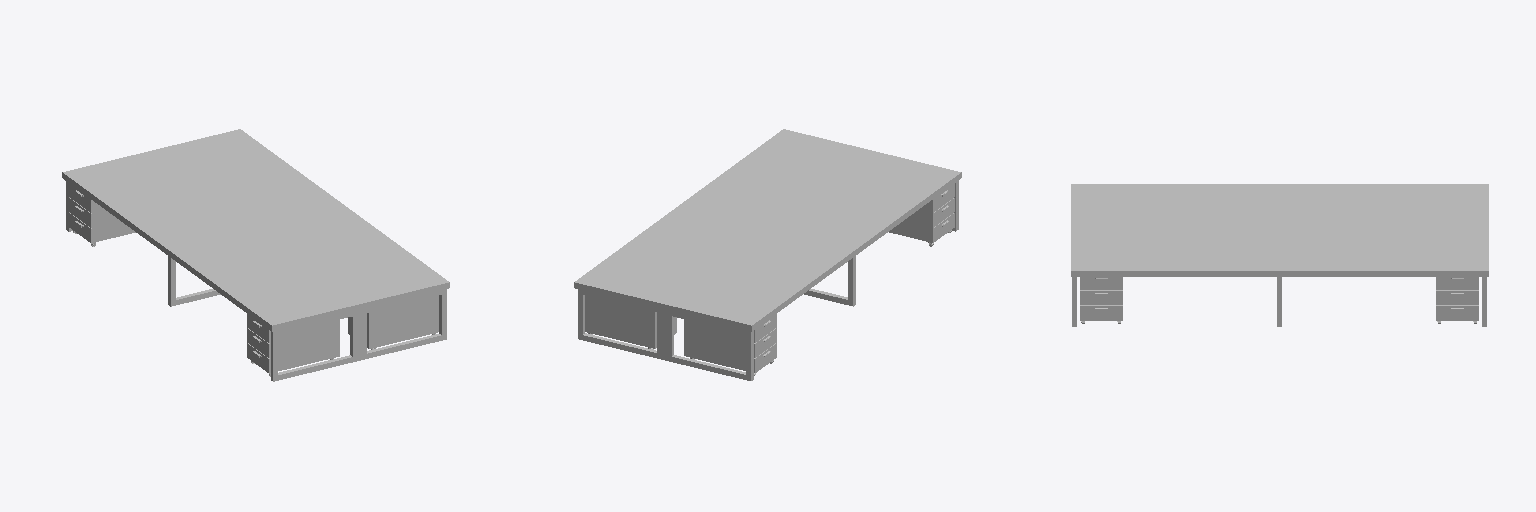
File: table.serva.tab_bb6.obj
3 renders of one model, left to right at view 1: azimuth 30°, elevation 25°; view 2: azimuth 150°, elevation 25°; view 3: azimuth 270°, elevation 25°, orthographic.
Parts seen in each view (by area): view 1: Box001, Box003, Box005, Box004; view 2: Box001, Box004, Box006, Box003; view 3: Box001, Box005, Box006.
Part boxes in pixels (bbox=[...]): Box001: bbox=[62, 129, 449, 381]; Box003: bbox=[247, 314, 339, 376]; Box005: bbox=[348, 296, 438, 349]; Box004: bbox=[69, 184, 135, 246]; Box001: bbox=[574, 129, 961, 380]; Box004: bbox=[684, 314, 776, 375]; Box006: bbox=[585, 295, 676, 349]; Box003: bbox=[889, 184, 954, 246]; Box001: bbox=[1071, 184, 1488, 326]; Box005: bbox=[1080, 277, 1122, 323]; Box006: bbox=[1436, 277, 1478, 323].
Size of the model in its own units: 260 by 80.01 by 530.